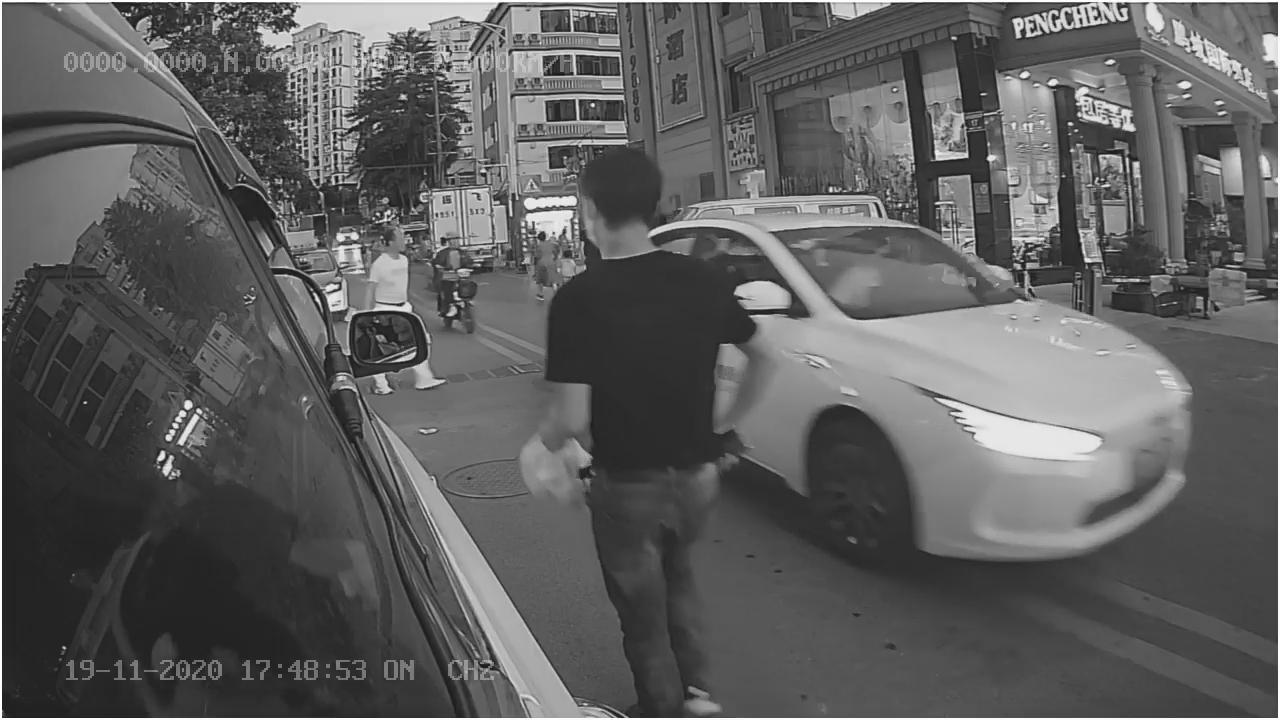person: (536, 151, 782, 590)
